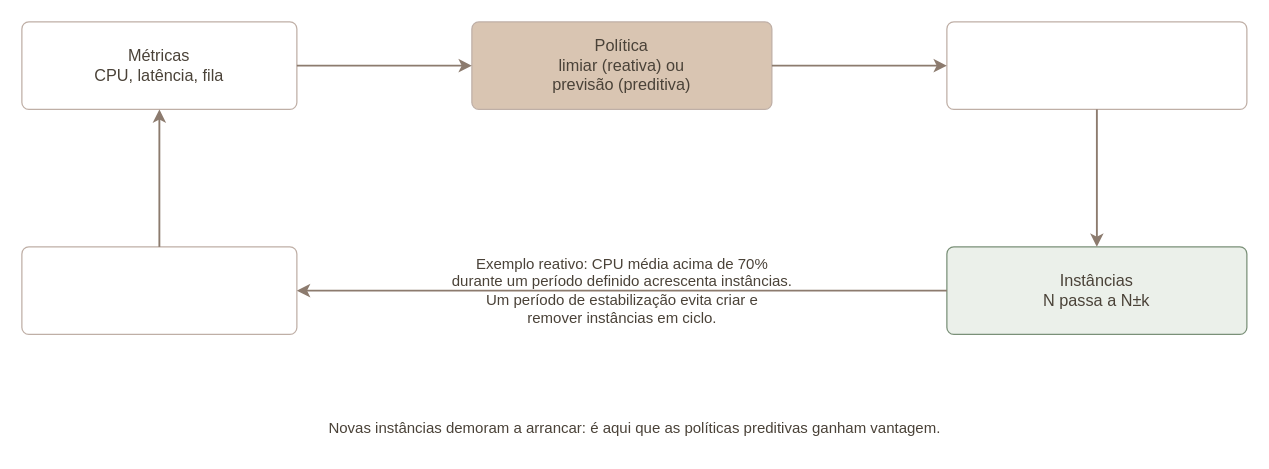
This 1269x469 diagram has some shape labels left out. Here are the shapes that lost their labels. From the top down, the box of each, then its label:
(946, 21, 1247, 109): Ação scale out ou scale in
(21, 246, 297, 334): Monitorização recolha contínua
